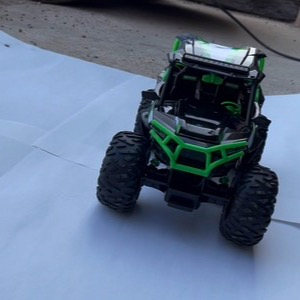polaris: (97, 34, 281, 251)
